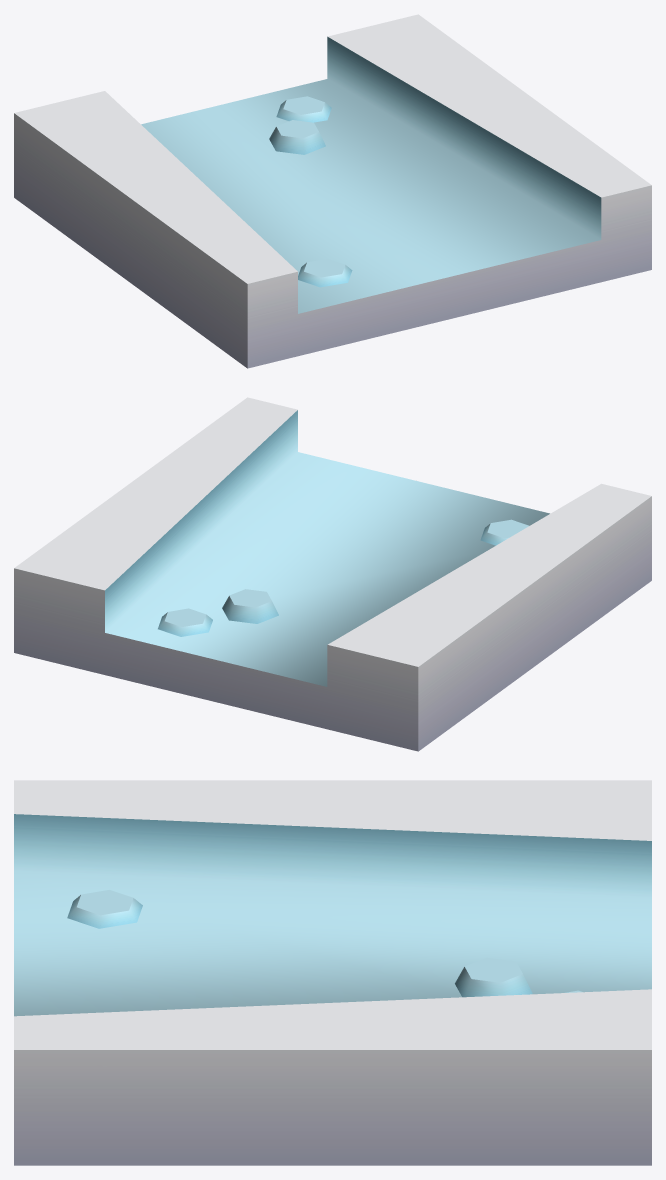
Rendered from kenney-tower-defense-snow-tile-transition.glb.
The picture shows the model from 3 angles, top to bottom: view 1: azimuth 30°, elevation 25°; view 2: azimuth 150°, elevation 25°; view 3: azimuth 270°, elevation 25°; orthographic projection. The views are drawn at different scales.
Parts seen in each view (by area): view 1: snow-tile-transition; view 2: snow-tile-transition; view 3: snow-tile-transition.
Boxes of the visible parts, x1,y1,x2,y2 form: snow-tile-transition: (14,14,651,368); snow-tile-transition: (14,397,651,751); snow-tile-transition: (14,780,651,1165).
Bounding box in the file's own units: 1 × 0.2 × 1.
Materials: 1 (1 with a texture image).
